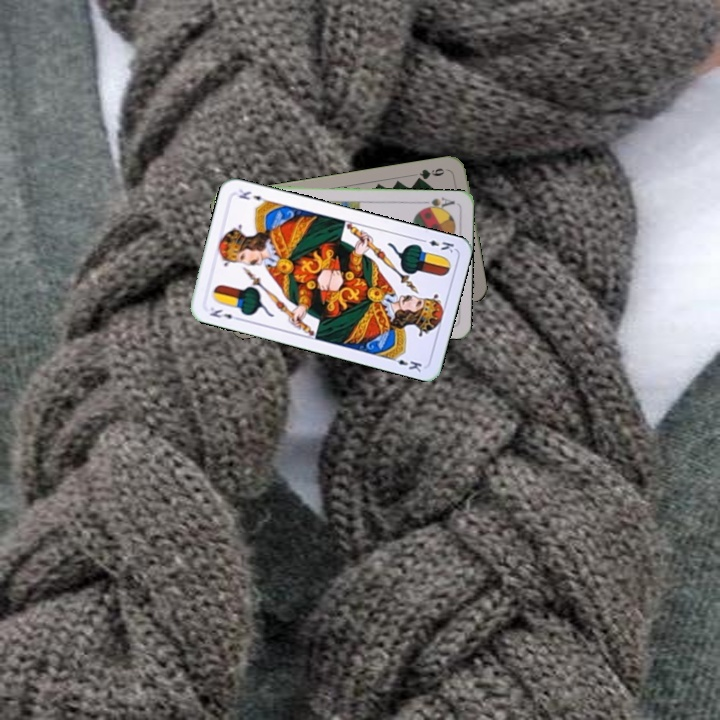EK: (416, 235, 456, 255), (206, 303, 243, 323)
G9: (412, 164, 452, 184)
SA: (417, 193, 457, 213)
